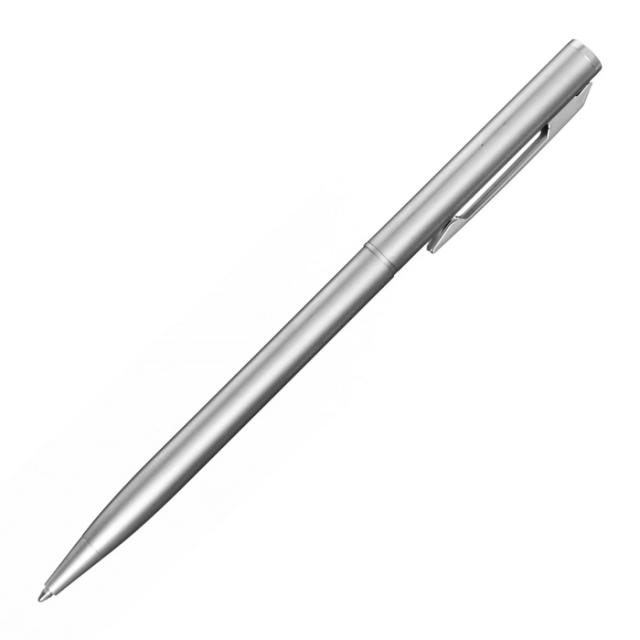pen: (36, 38, 602, 603)
